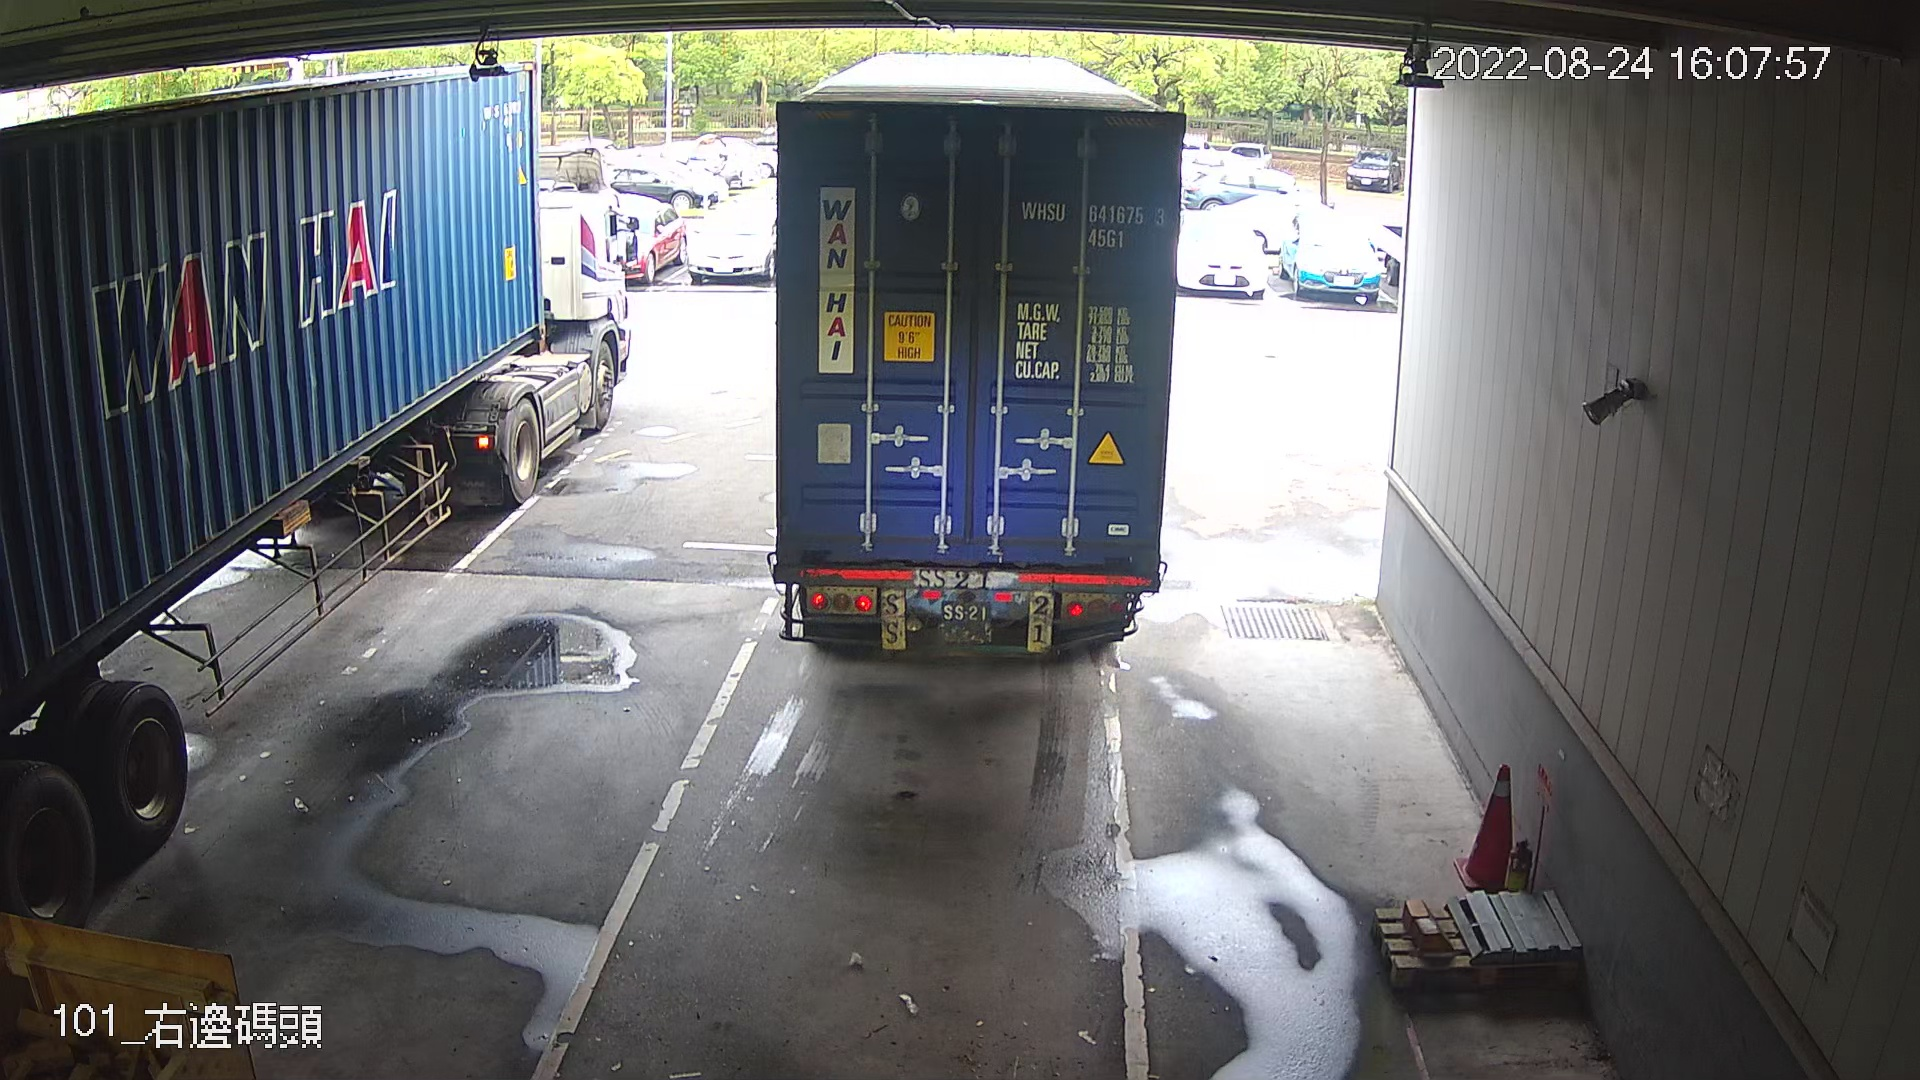container: (1014, 189, 1175, 258)
